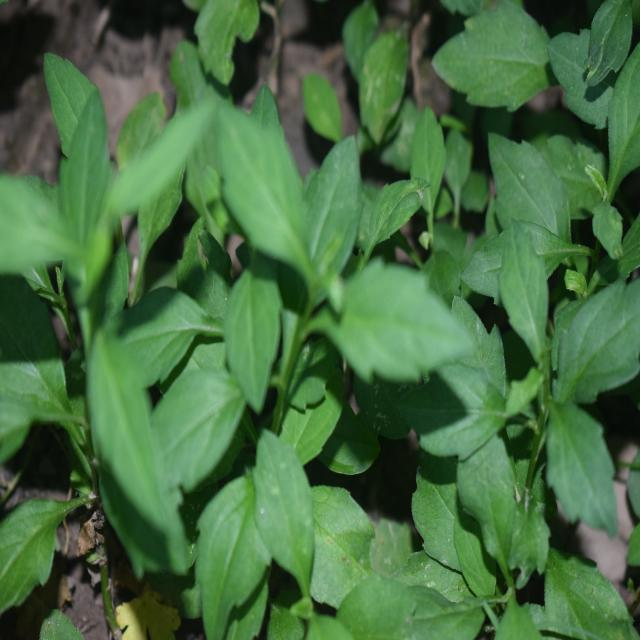Indian aster: (172, 68, 431, 562), (446, 138, 627, 560)
